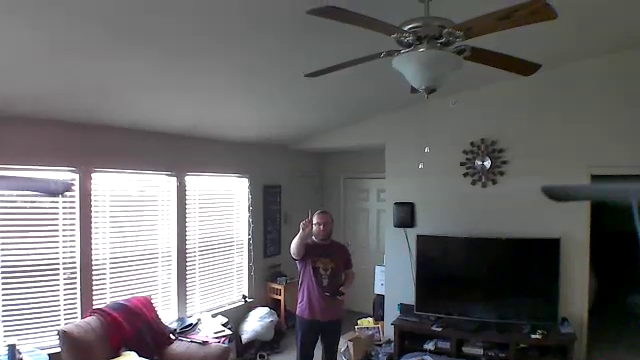up: (295, 205, 315, 234)
